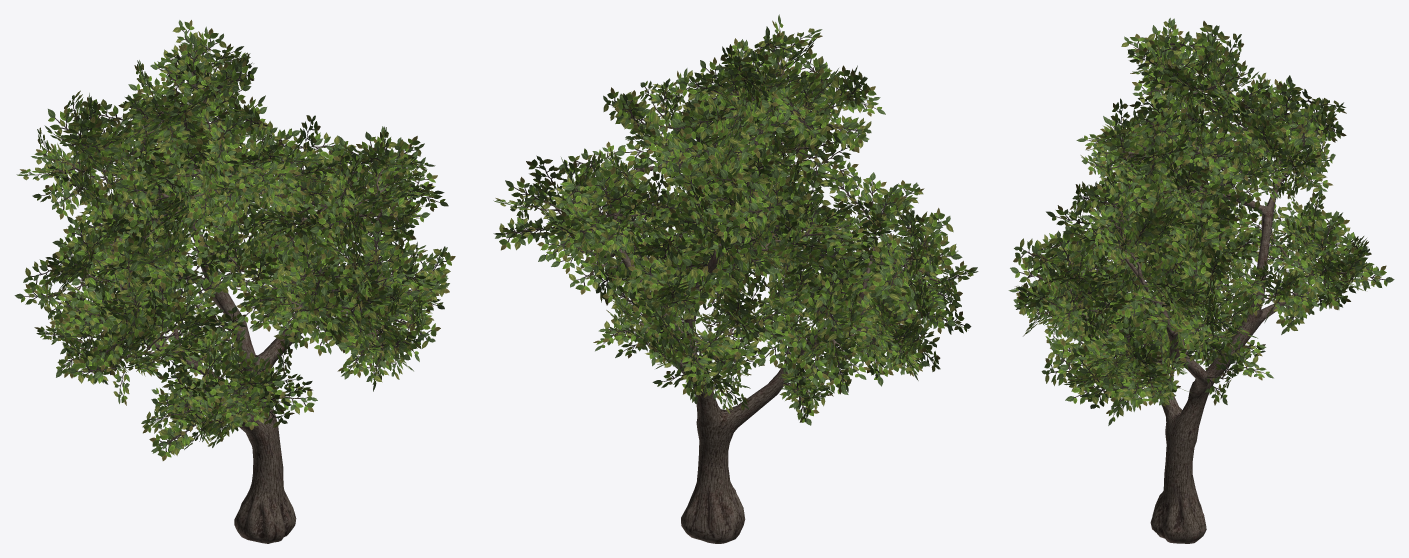
File: arbre.glb
3 renders of one model, left to right at view 1: azimuth 30°, elevation 25°; view 2: azimuth 150°, elevation 25°; view 3: azimuth 270°, elevation 25°, orthographic. The views are drawn at different scales.
Visible parts, largest first — view 1: leaves, bark; view 2: leaves, bark; view 3: leaves, bark.
Part boxes in pixels (box(x1,y1,x2,y2)): leaves: box(14, 20, 455, 460); bark: box(50, 62, 412, 543); leaves: box(493, 14, 978, 425); bark: box(532, 58, 941, 543); leaves: box(1008, 18, 1394, 425); bark: box(1028, 61, 1346, 543).
Size of the model in its own units: 7.31 by 8 by 5.8.
2 materials, 2 textured.
